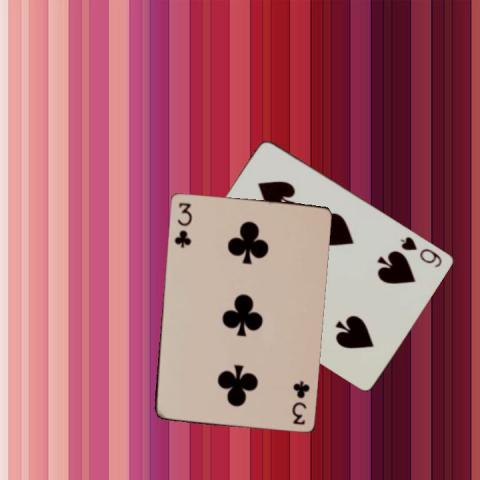3c: (289, 377, 311, 426), (172, 198, 193, 248)
6s: (398, 234, 444, 270)
